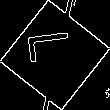L_E: (28, 37, 82, 73)
